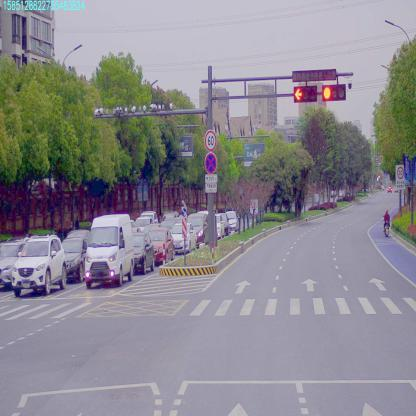traffic-light: (321, 82, 345, 100), (293, 88, 315, 102)
